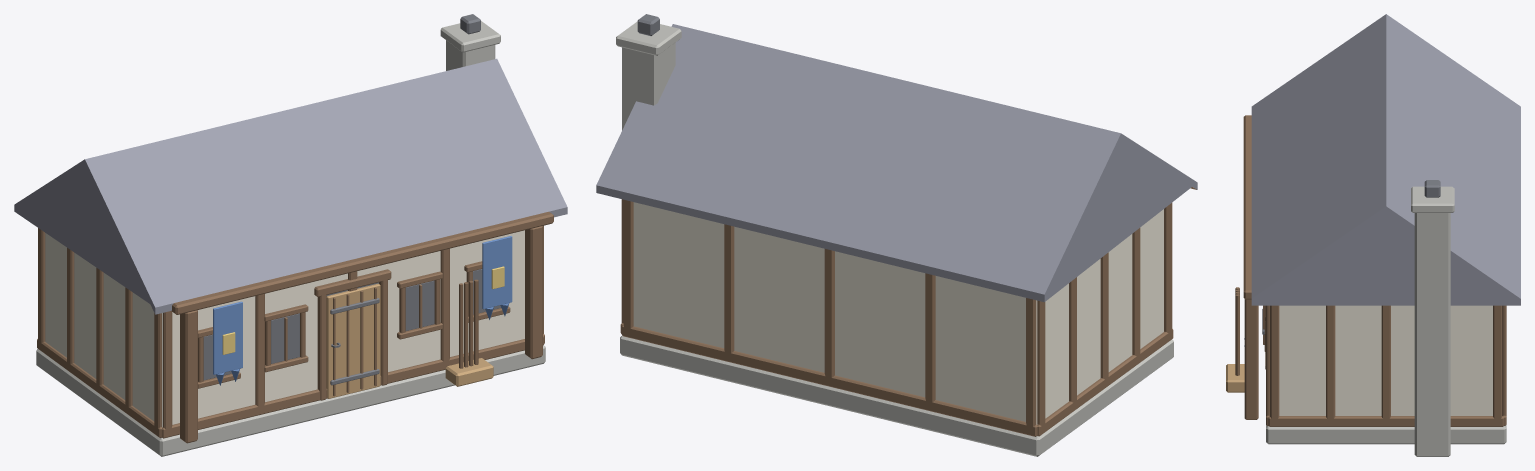
File: guard-barracks.glb
3 renders of one model, left to right at view 1: azimuth 30°, elevation 25°; view 2: azimuth 150°, elevation 25°; view 3: azimuth 270°, elevation 25°, orthographic. The views are drawn at different scales.
Visible parts, largest first — view 1: guard-barracks, door/wood, banner/blue, door/timber, door/iron; view 2: guard-barracks; view 3: guard-barracks.
Boxes of the visible parts, x1,y1,x2,y2 form: guard-barracks: [14, 14, 567, 456]; door/wood: [326, 283, 380, 398]; banner/blue: [213, 301, 242, 385]; door/timber: [333, 287, 376, 396]; door/iron: [330, 298, 379, 385]; guard-barracks: [596, 14, 1197, 456]; guard-barracks: [1226, 14, 1520, 456].
Size of the model in its own units: 10.22 by 6.36 by 6.35.
